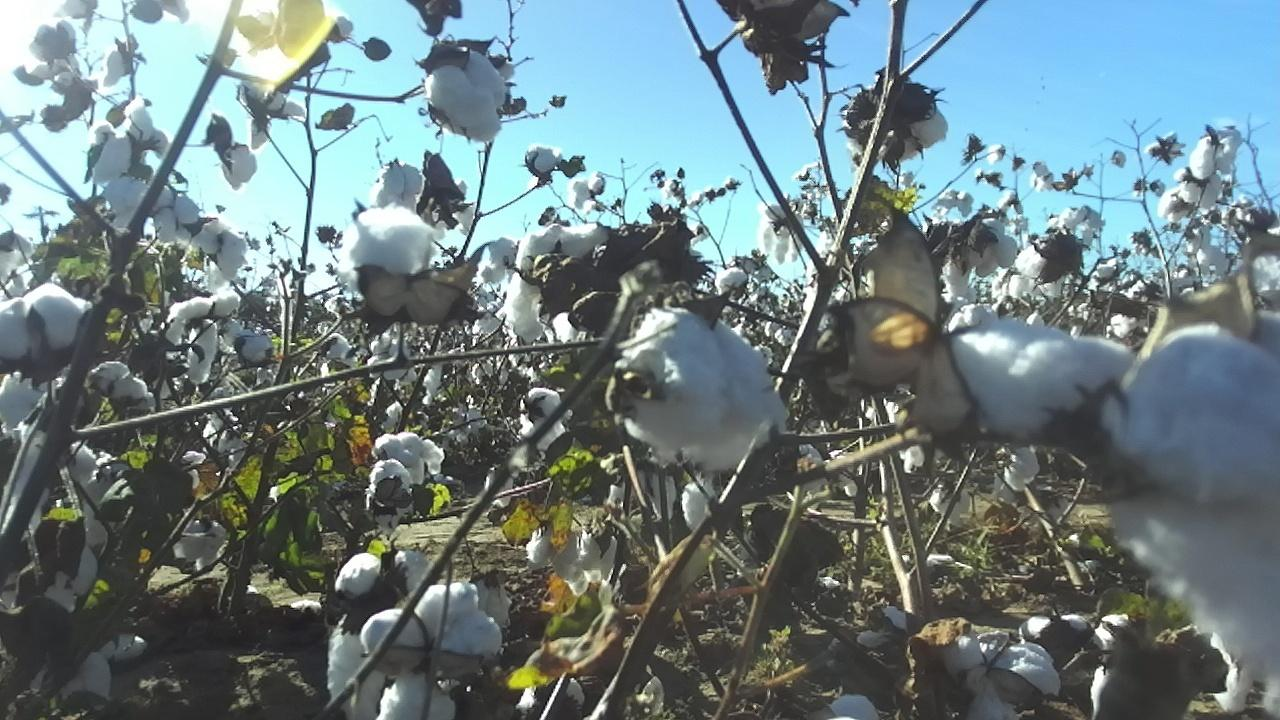cotton_ready: (1101, 310, 1280, 674), (609, 310, 792, 467), (950, 322, 1134, 443), (365, 585, 502, 720), (329, 552, 432, 720), (0, 287, 92, 433), (507, 225, 612, 349), (941, 635, 1057, 720), (33, 634, 145, 707), (427, 49, 507, 142), (341, 204, 437, 281), (169, 290, 242, 386), (942, 220, 1020, 297), (849, 104, 952, 159), (1089, 612, 1132, 720), (373, 434, 444, 485), (1016, 244, 1072, 299), (85, 120, 134, 181), (1016, 614, 1099, 650), (148, 187, 202, 242), (1246, 224, 1280, 306), (371, 162, 425, 211)
